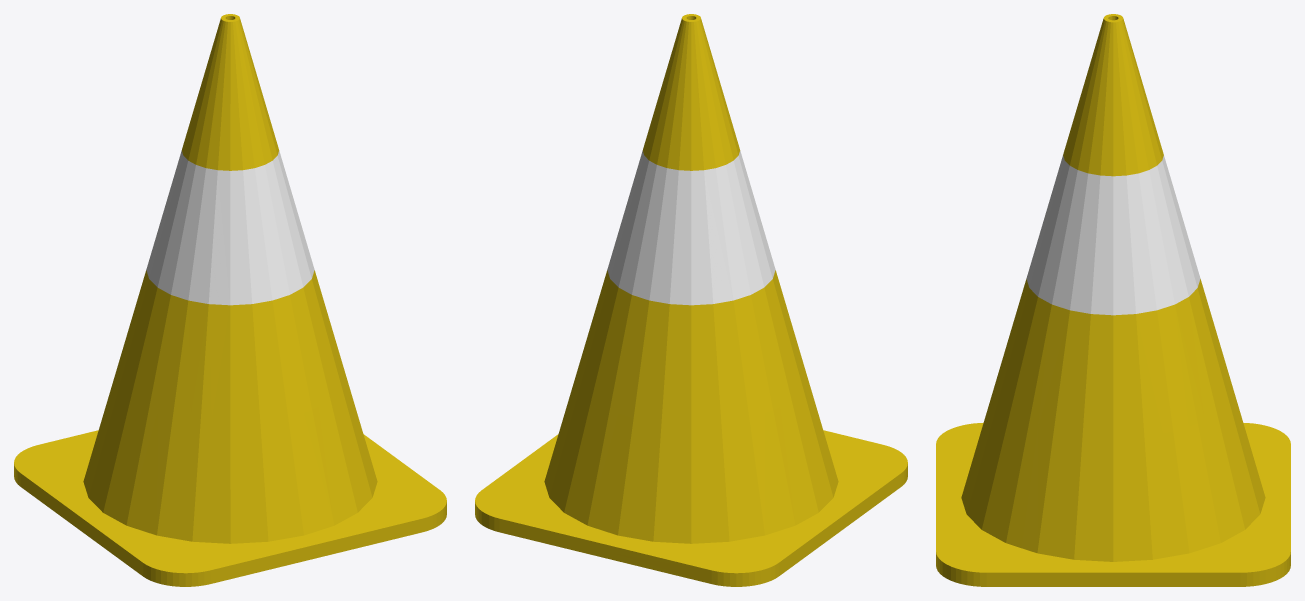
Rendered from coneyellow.obj.
3 views of the same model, side by side, from view 1: azimuth 30°, elevation 25°; view 2: azimuth 150°, elevation 25°; view 3: azimuth 270°, elevation 25° (orthographic). The views are drawn at different scales.
Parts seen in each view (by area): view 1: Object.013; view 2: Object.013; view 3: Object.013.
Part boxes in pixels (x1,y1,x2,y2): Object.013: [14, 14, 446, 586]; Object.013: [475, 14, 907, 586]; Object.013: [936, 14, 1290, 586].
Bounding box in the file's own units: 0.228 × 0.35 × 0.228.
